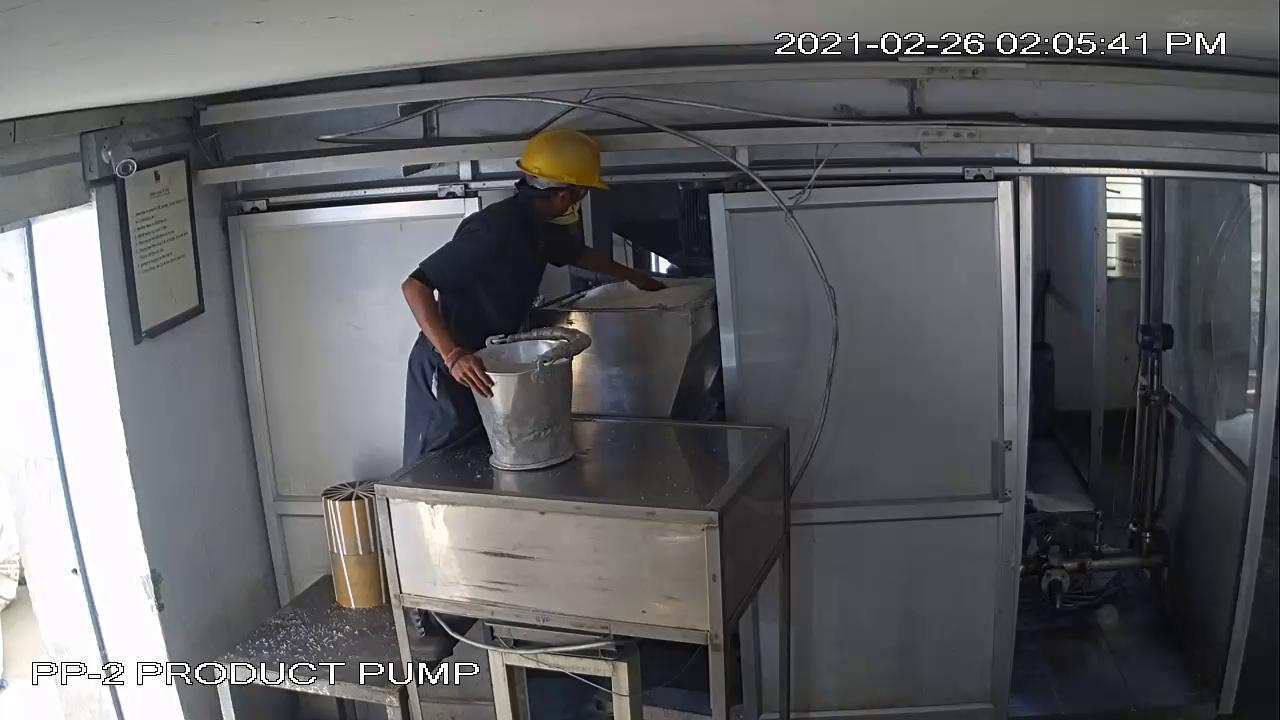helmet: (507, 111, 625, 204)
